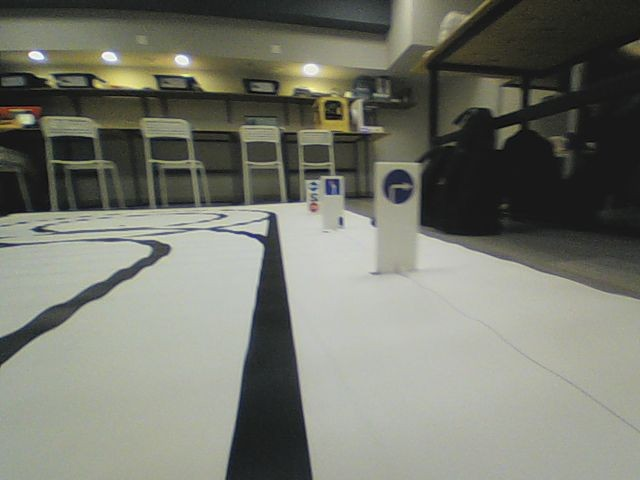Right: (383, 169, 413, 205)
